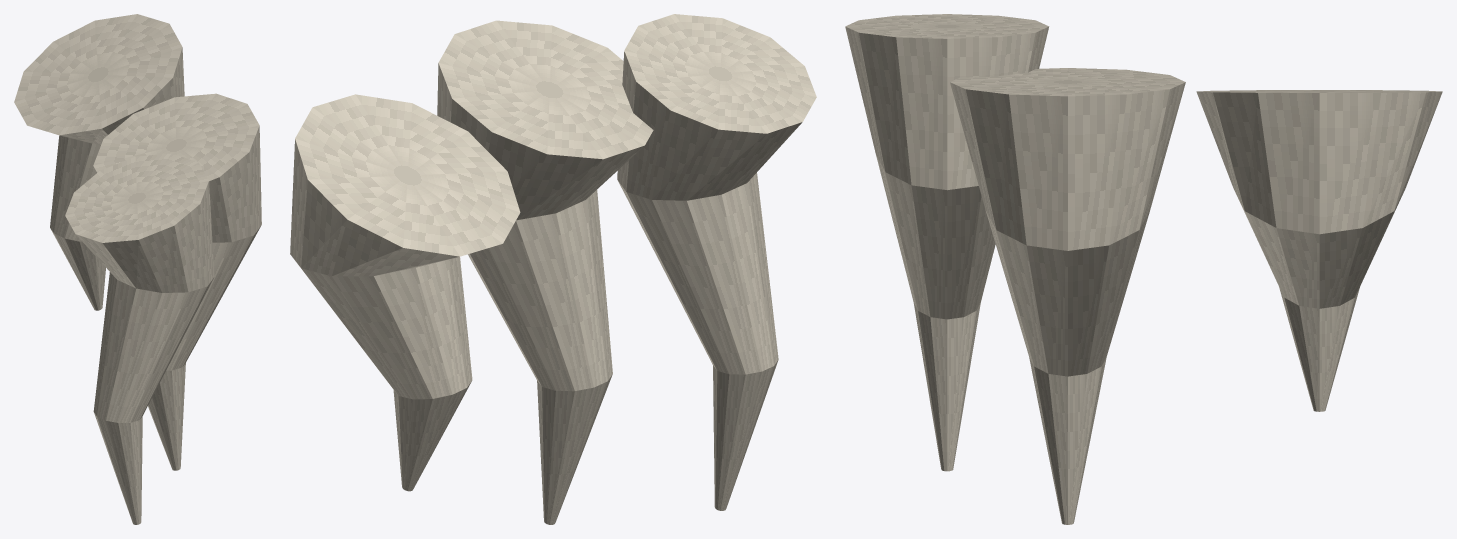
The model's file is cave-and-crystal-networks-stalactite-1-07e7a734.glb.
3 renders of one model, left to right at view 1: azimuth 30°, elevation 25°; view 2: azimuth 150°, elevation 25°; view 3: azimuth 270°, elevation 25°, orthographic. The views are drawn at different scales.
Visible parts, largest first — view 1: stalactite-1; view 2: stalactite-1; view 3: stalactite-1.
Boxes of the visible parts, x1,y1,x2,y2 form: stalactite-1: (14, 14, 261, 524); stalactite-1: (290, 14, 816, 524); stalactite-1: (845, 14, 1442, 524).
Size of the model in its own units: 0.379 by 0.5449 by 0.6022.
Materials: 1 (1 with a texture image).
